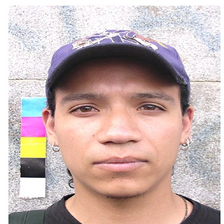no_mask: (55, 81, 184, 196)
